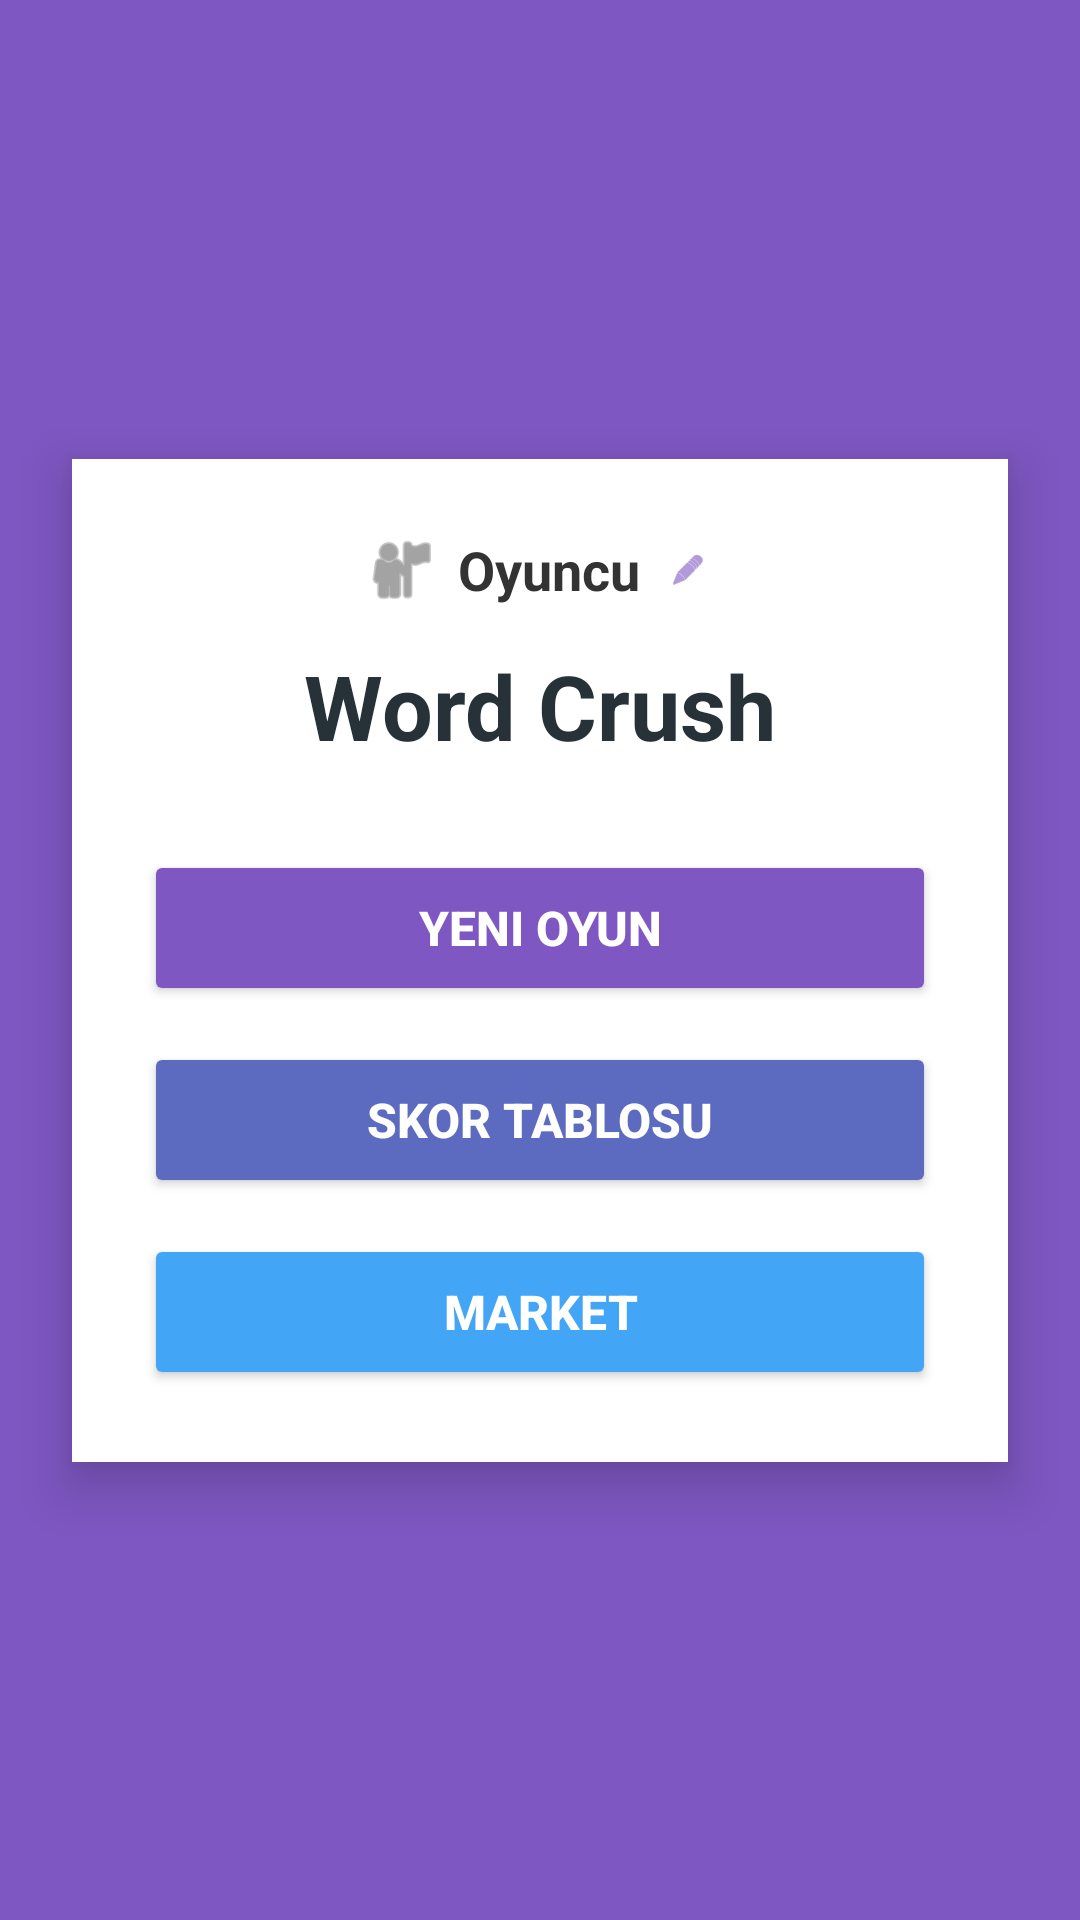

Icons on this 1080 × 1920 Android screen, each with its box as (x1, y1, x2, y2):
edit: (673, 555, 703, 585)
myplaces: (373, 541, 431, 599)
